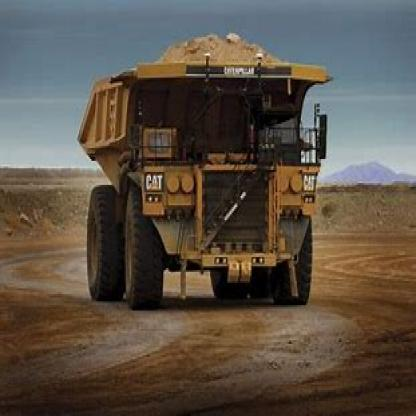dump_truck: (68, 28, 324, 305)
